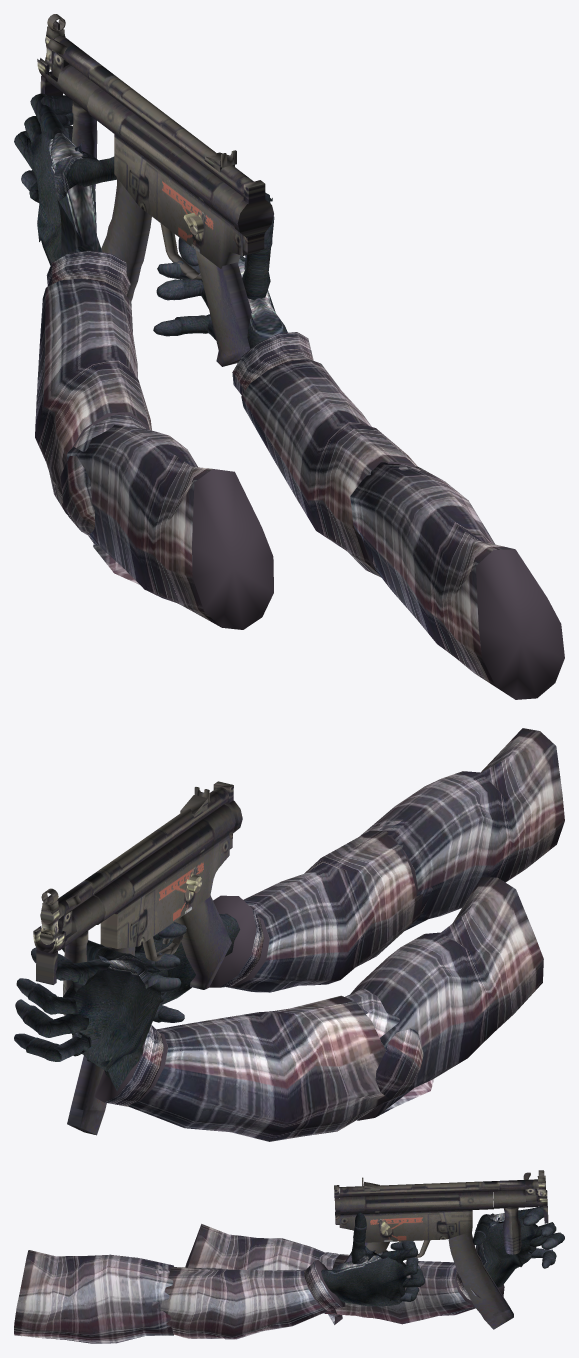
Rendered from mp5k_vfire.fbx.
3 renders of one model, top to bottom at view 1: azimuth 30°, elevation 25°; view 2: azimuth 150°, elevation 25°; view 3: azimuth 270°, elevation 25°, orthographic. The views are drawn at different scales.
Parts seen in each view (by area): view 1: larm, rupperarm, rforearm, mp5k_body, lhand, pistol_grip_mp5k, 9mm_clip, mp5k_grip, mp5kRear, rhand, rthumbback; view 2: larm, rforearm, rupperarm, mp5k_body, lhand, mp5k_grip, pistol_grip_mp5k, 9mm_clip, rhand, mp5k_barrel, mp5kRear; view 3: rupperarm, rforearm, larm, mp5k_body, lhand, rhand, 9mm_clip, mp5k_grip, rthumbback, rpfingerback, pistol_grip_mp5k.
Boxes of the visible parts, x1,y1,x2,y2 form: larm: (35,250,273,629); rupperarm: (350,462,564,699); rforearm: (232,332,417,577); mp5k_body: (52,36,260,268); lhand: (14,93,116,265); pistol_grip_mp5k: (195,250,251,366); 9mm_clip: (101,178,151,301); mp5k_grip: (37,51,99,189); mp5kRear: (233,180,273,253); rhand: (237,259,287,363); rthumbback: (242,248,270,300); larm: (94,877,543,1141); rforearm: (209,830,423,992); rupperarm: (360,728,564,930); mp5k_body: (51,787,235,948); lhand: (14,940,161,1090); mp5k_grip: (33,895,104,1015); pistol_grip_mp5k: (175,895,231,989); 9mm_clip: (67,946,135,1135); rhand: (135,913,240,1004); mp5k_barrel: (40,910,59,944); mp5kRear: (213,781,242,849); rupperarm: (14,1250,173,1343); rforearm: (160,1260,345,1339); larm: (185,1224,504,1324); mp5k_body: (339,1179,538,1242); lhand: (472,1206,564,1287); rhand: (321,1252,407,1306); 9mm_clip: (448,1231,513,1329); mp5k_grip: (493,1188,548,1254); rthumbback: (351,1239,380,1264); rpfingerback: (379,1247,416,1263); pistol_grip_mp5k: (344,1241,389,1262).
Bounding box in the file's own units: 9.28 × 12.68 × 33.16.
